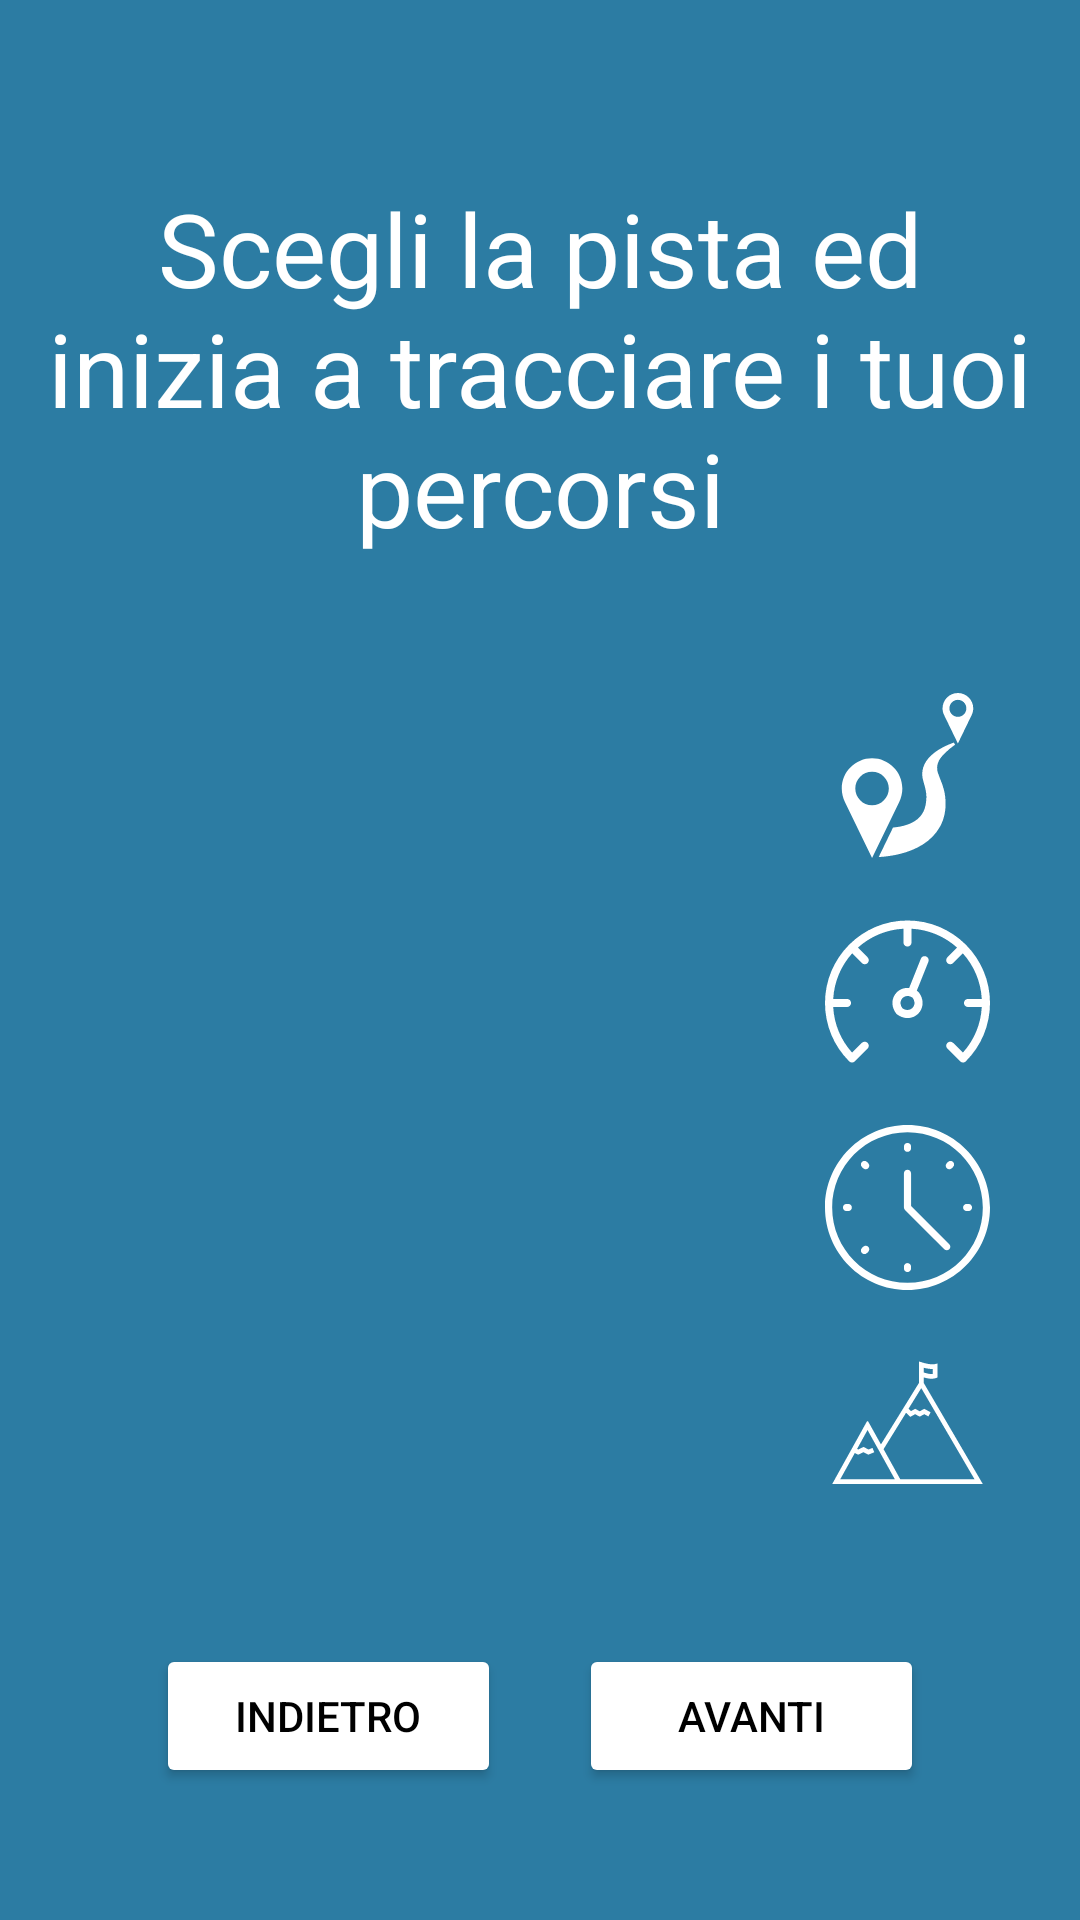

Icon click points for this 1080×1920 phone screenshot, format [x,y]:
Icona del dislivello: [907,1422]
Icona della distanza: [907,775]
Icona della durata temporale: [907,1207]
Icona della velocità: [907,991]
